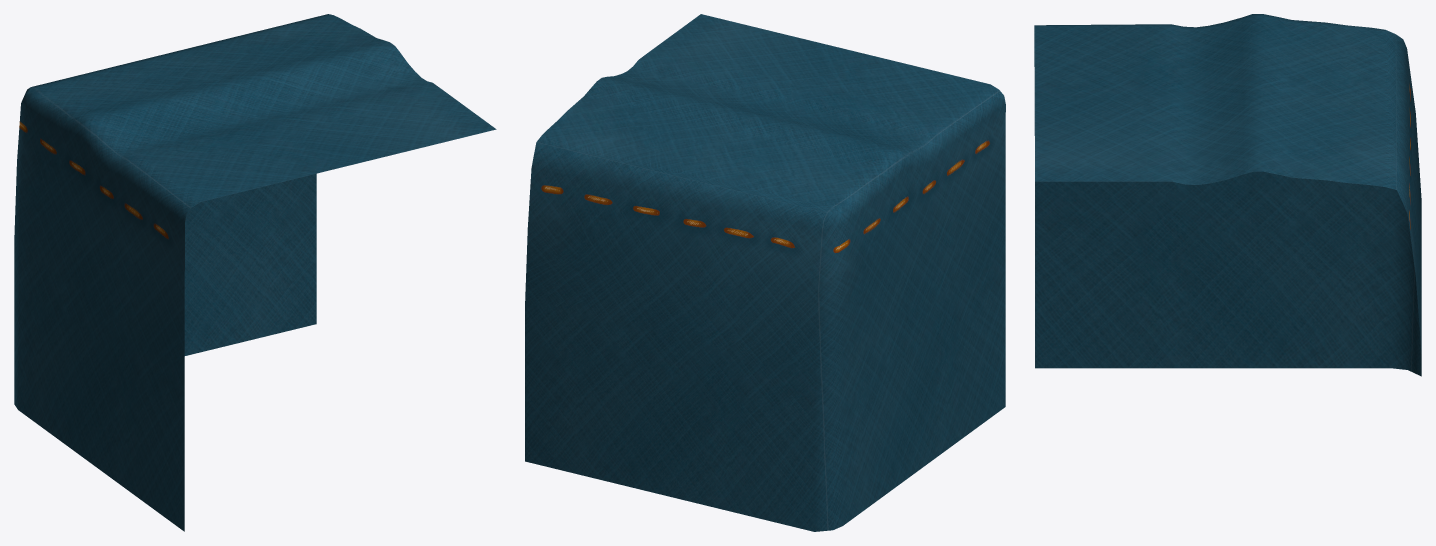
File: tl_jean_endcurve_right.FBX
The picture shows the model from 3 angles, left to right: view 1: azimuth 30°, elevation 25°; view 2: azimuth 150°, elevation 25°; view 3: azimuth 270°, elevation 25°; orthographic projection. The views are drawn at different scales.
Parts seen in each view (by area): view 1: tl_endcurveright; view 2: tl_endcurveright; view 3: tl_endcurveright.
Part boxes in pixels (<box>): tl_endcurveright: <box>14,14,496,531</box>; tl_endcurveright: <box>525,14,1005,531</box>; tl_endcurveright: <box>1034,14,1421,376</box>.
Size of the model in its own units: 100 by 103 by 100.
